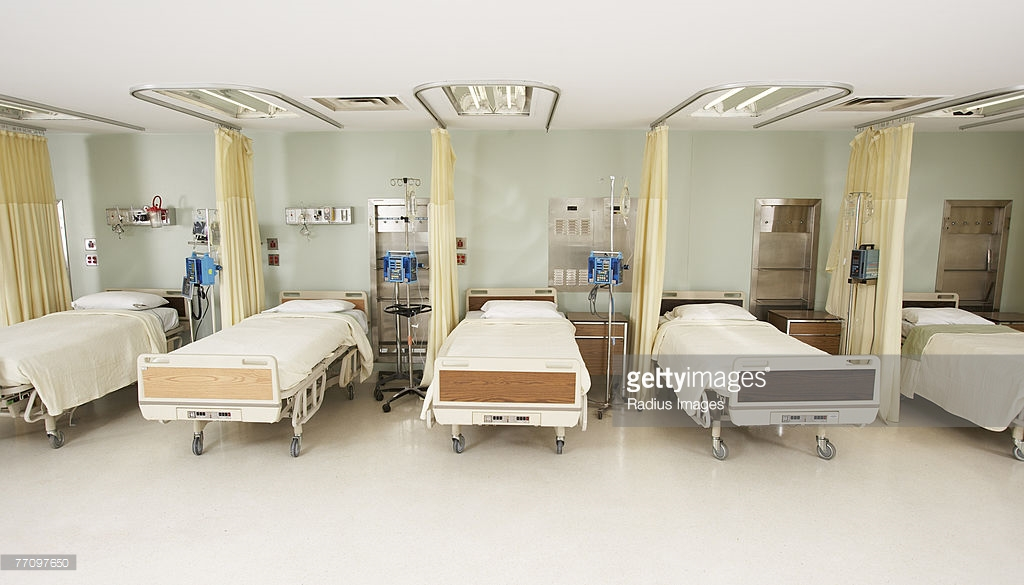hospital bed: (630, 289, 908, 427), (138, 270, 370, 427), (5, 273, 185, 434), (414, 280, 592, 435), (866, 288, 1016, 434)
